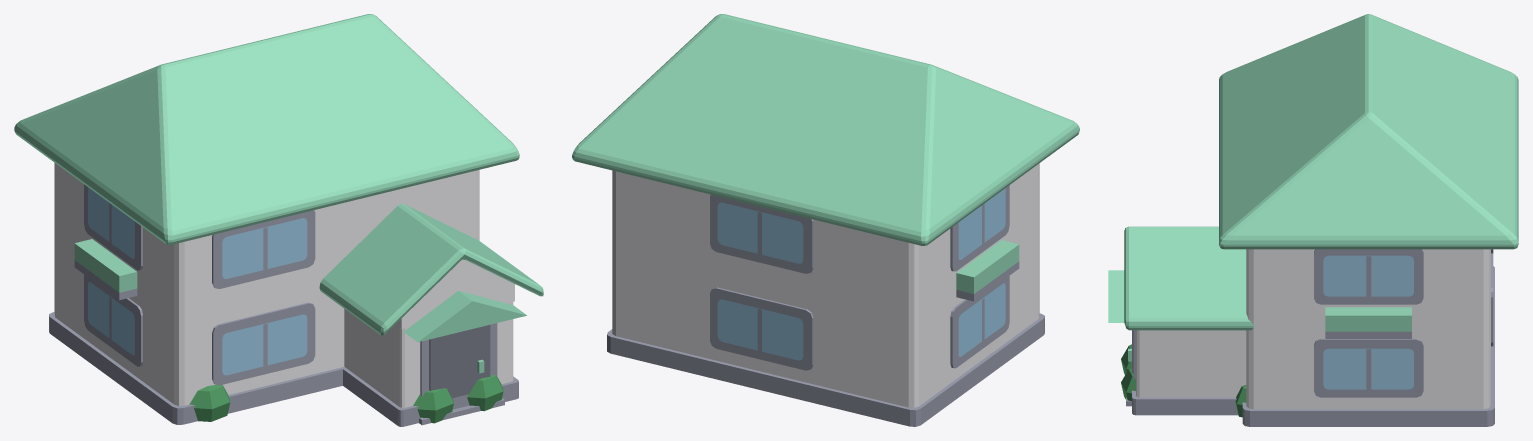
File: house-1x1-2f-mansard-a.glb
3 views of the same model, side by side, from view 1: azimuth 30°, elevation 25°; view 2: azimuth 150°, elevation 25°; view 3: azimuth 270°, elevation 25° (orthographic). The views are drawn at different scales.
Parts seen in each view (by area): view 1: house-1x1-2f-mansard-a; view 2: house-1x1-2f-mansard-a; view 3: house-1x1-2f-mansard-a.
Part boxes in pixels (x1,y1,x2,y2): house-1x1-2f-mansard-a: (14, 14, 543, 426); house-1x1-2f-mansard-a: (572, 14, 1079, 426); house-1x1-2f-mansard-a: (1108, 14, 1518, 426).
Bounding box in the file's own units: 1 × 0.812 × 1.04.
Materials: 1 (1 with a texture image).
